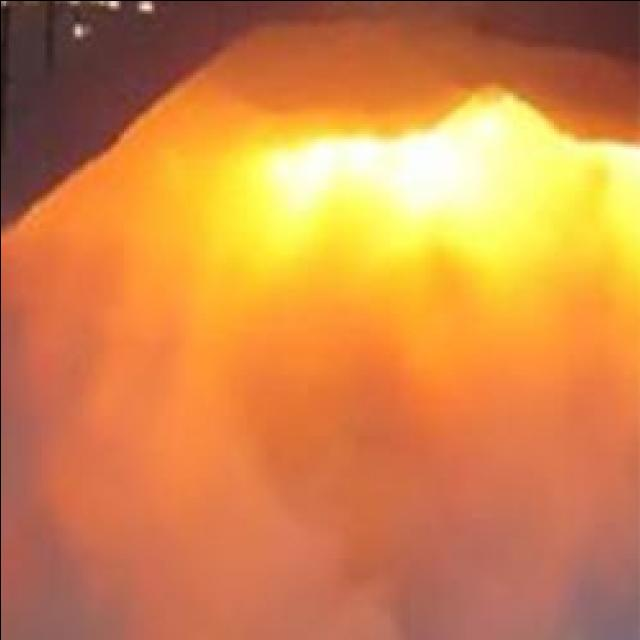fire: (276, 137, 454, 199), (568, 139, 640, 177)
smoke: (225, 194, 521, 284), (542, 236, 638, 442)
